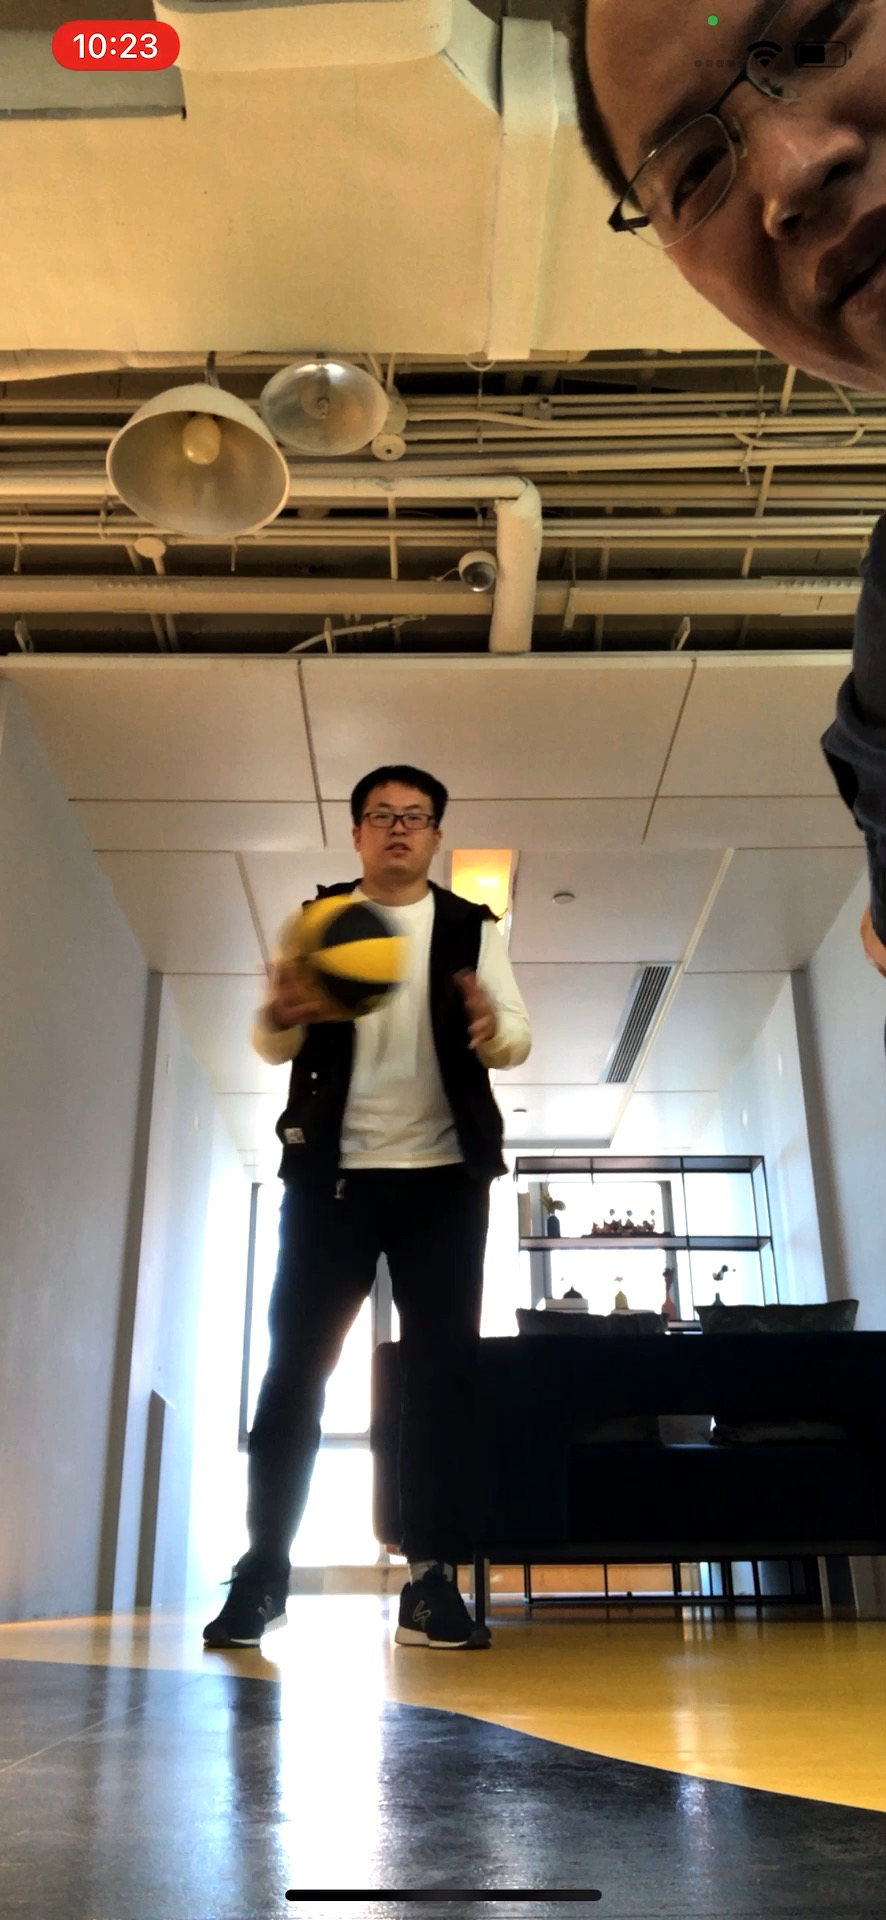ball: (280, 896, 410, 1021)
